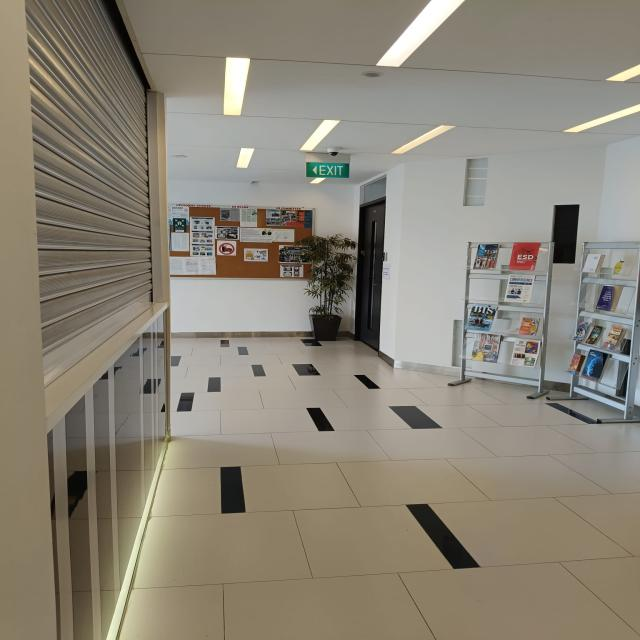Pot: (308, 314, 342, 341)
